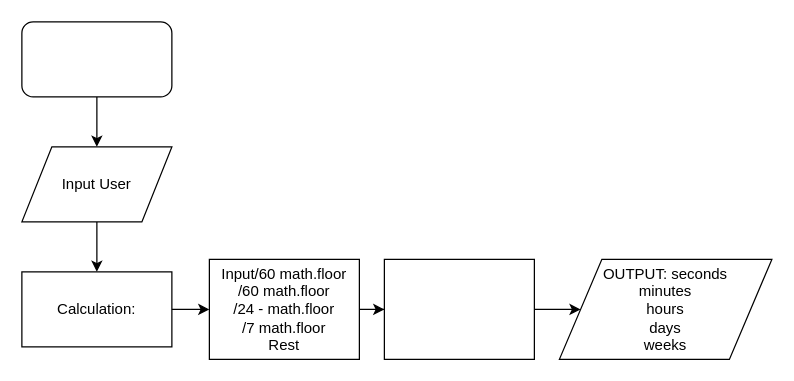
This 794x381 diagram has some shape labels left out. Each missing label, with the centre of its shape:
modulo *60 modulo *60 modulo *24 modulo *7 full num: (x=458, y=308)
Start: (x=96, y=59)
